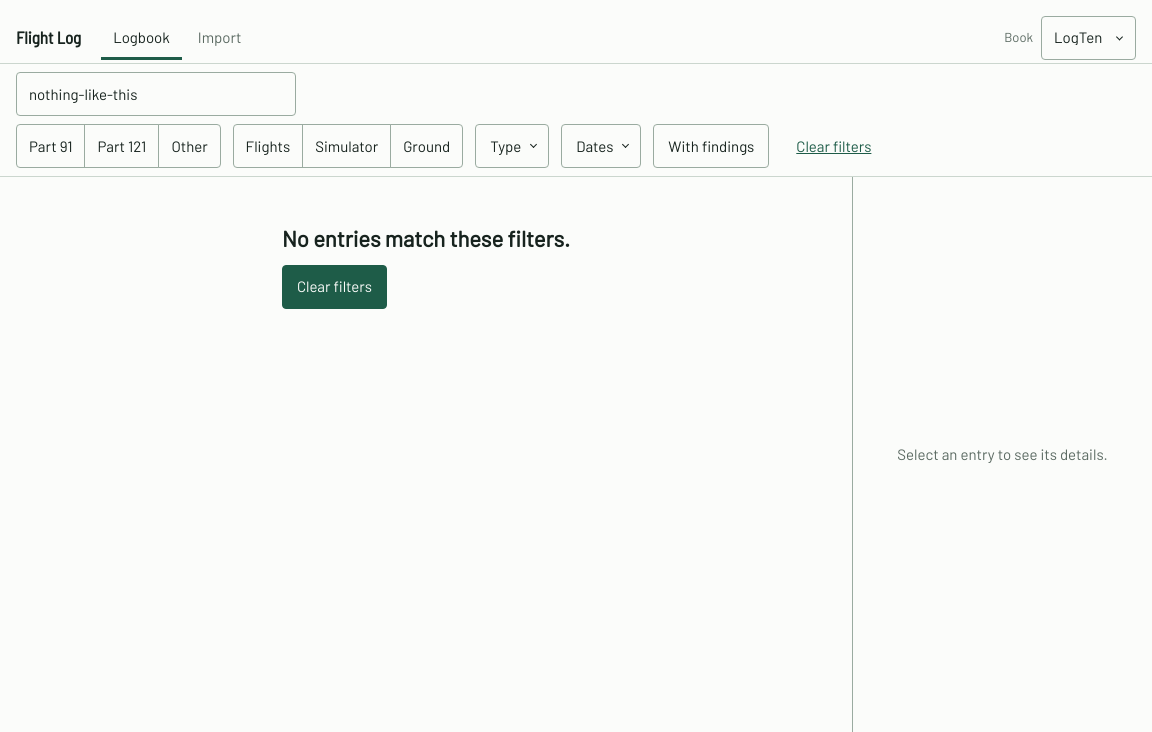
Test case: Logbook screen › says so when no entries match, and offers to clear the filters
The image size is (1152, 732).
Expected: the heading "No entries match these filters." is shown, [282,225,570,252]
Click the button "Clear filters" below "No entries match these filters." at (334, 286), box [282,264,387,308]
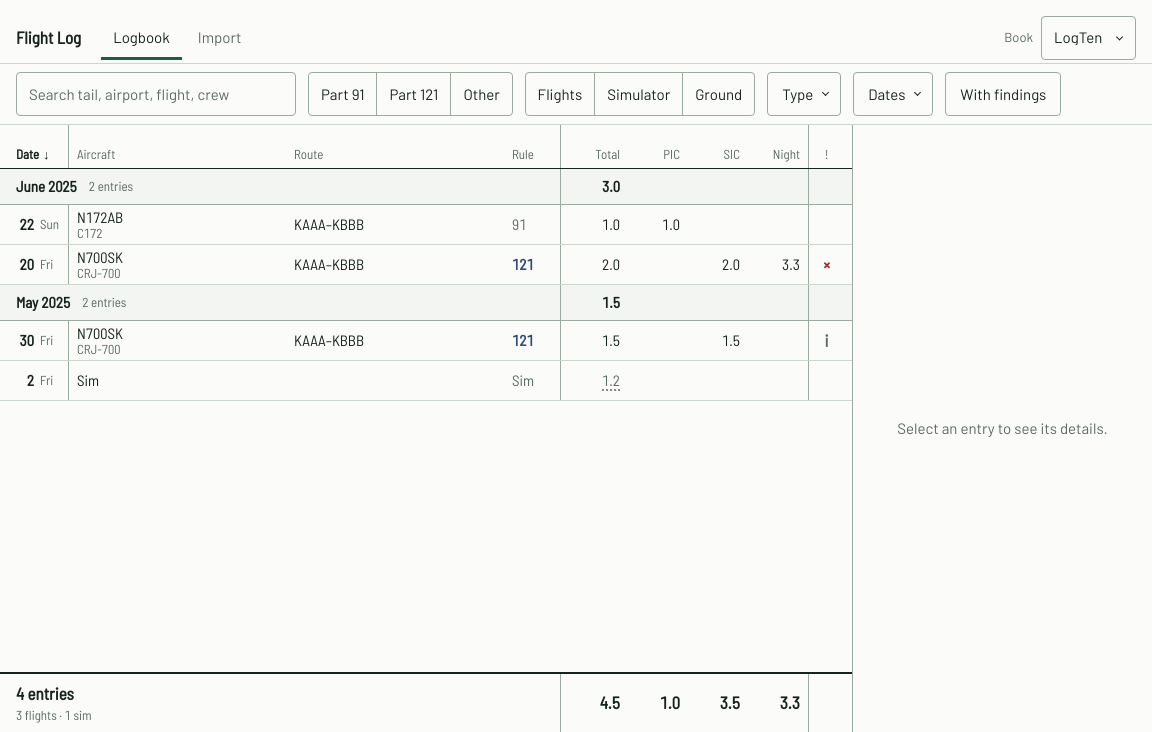
Result: the table is shown
